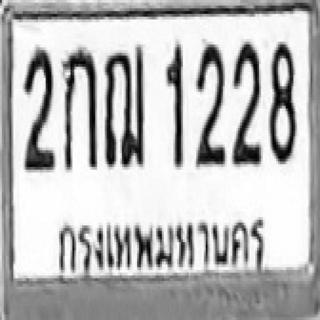A01: (62, 46, 96, 171)
A12: (103, 44, 147, 167)
N01: (164, 42, 183, 170)
N02: (22, 46, 54, 171), (230, 38, 261, 166), (194, 42, 225, 167)
N08: (268, 39, 296, 164)
P04: (48, 210, 275, 278)
